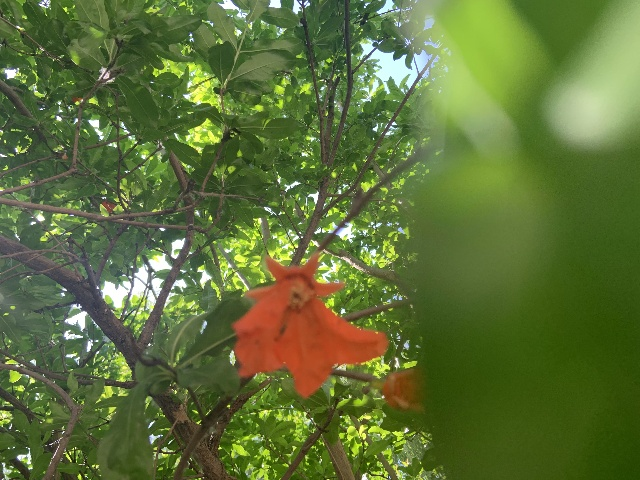flower: (230, 252, 388, 399), (382, 368, 426, 412)
